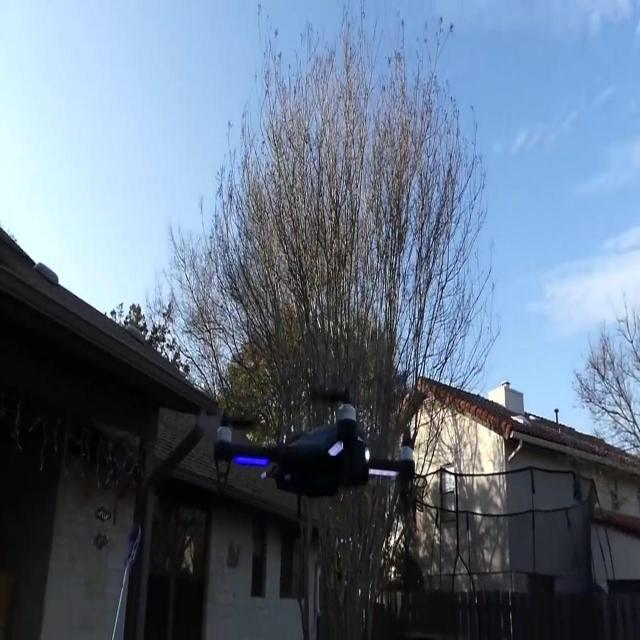UAV: (214, 384, 416, 512)
